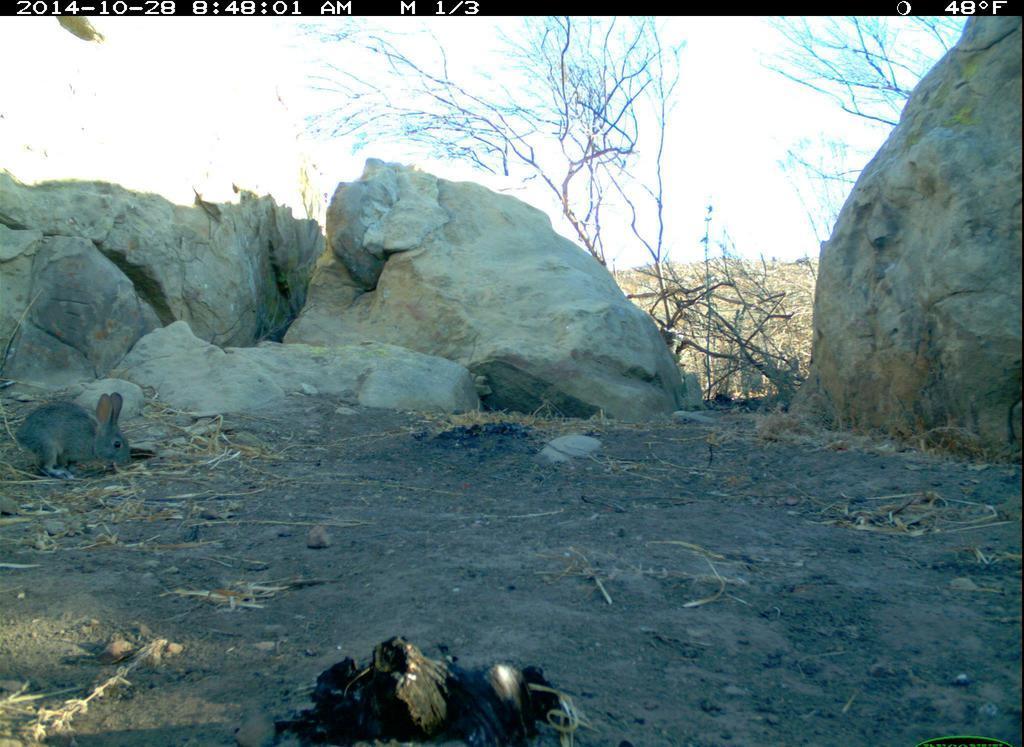rabbit: (20, 382, 145, 489)
